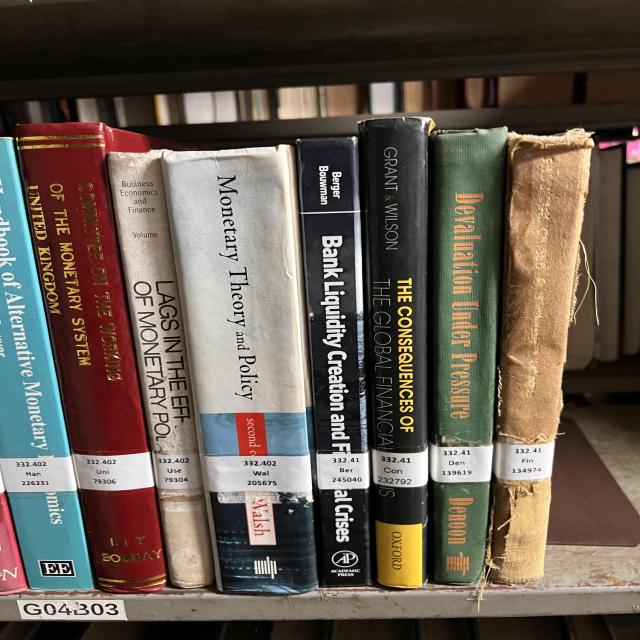Book: (15, 122, 167, 592), (162, 145, 318, 594), (490, 129, 593, 584), (107, 150, 213, 589), (430, 129, 508, 584), (360, 118, 433, 589), (297, 138, 372, 586)
Label: (203, 455, 312, 492), (73, 451, 155, 491), (0, 456, 77, 492), (493, 441, 555, 480), (430, 444, 493, 482), (372, 450, 428, 488), (317, 452, 370, 490), (153, 454, 202, 489)
